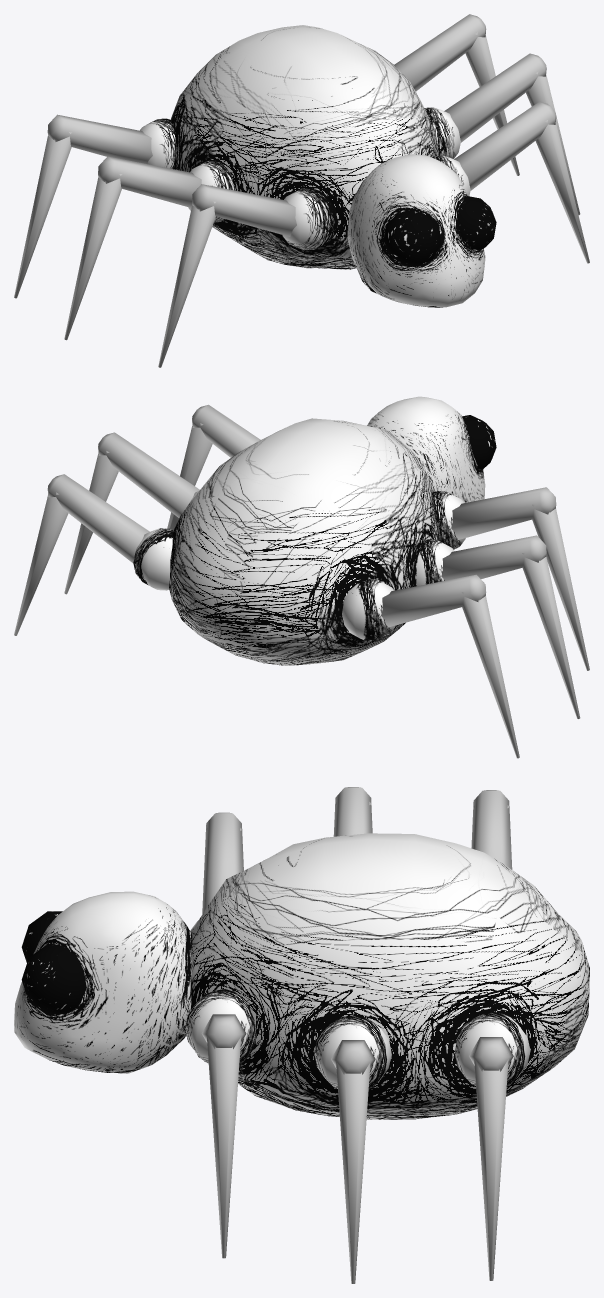
Rendered from insect.dae.
3 renders of one model, top to bottom at view 1: azimuth 30°, elevation 25°; view 2: azimuth 150°, elevation 25°; view 3: azimuth 270°, elevation 25°, orthographic. The views are drawn at different scales.
Visible parts, largest first — view 1: Body, Head, uprleg-2-l, uprleg-1-l, uprleg-1-r, uprleg-3-r, uprleg-2-r, uprleg-3-l, lwrleg-2-r, Cone.002, lwrleg-3-r, Icosphere (+8 smaller); view 2: Body, Head, uprleg-3-l, uprleg-2-l, uprleg-1-r, uprleg-3-r, uprleg-2-r, lwrleg-3-r, lwrleg-2-r, Cone.002, shoulder-3-l, lwrleg-3-l (+7 smaller); view 3: Body, Head, lwrleg-3-l, lwrleg-2-l, Cone.004, Icosphere.001, shoulder-2-l, shoulder-3-r, uprleg-1-r, shoulder-1-l, uprleg-3-r, uprleg-2-r (+4 smaller).
Part boxes in pixels (<box>): Body: <box>171,25,438,269</box>; Head: <box>347,154,485,307</box>; uprleg-2-l: <box>444,53,546,142</box>; uprleg-1-l: <box>454,101,556,190</box>; uprleg-1-r: <box>192,184,296,236</box>; uprleg-3-r: <box>47,114,152,163</box>; uprleg-2-r: <box>98,156,201,207</box>; uprleg-3-l: <box>394,14,486,91</box>; lwrleg-2-r: <box>64,174,122,340</box>; Cone.002: <box>158,201,215,367</box>; lwrleg-3-r: <box>14,132,71,298</box>; Icosphere: <box>383,210,441,266</box>; Body: <box>169,418,438,665</box>; Head: <box>367,396,485,502</box>; uprleg-3-l: <box>47,474,149,563</box>; uprleg-2-l: <box>98,432,199,517</box>; uprleg-1-r: <box>451,487,556,539</box>; uprleg-3-r: <box>381,574,486,627</box>; uprleg-2-r: <box>441,535,546,580</box>; lwrleg-3-r: <box>462,592,519,758</box>; lwrleg-2-r: <box>522,553,580,718</box>; Cone.002: <box>532,504,589,670</box>; shoulder-3-l: <box>342,578,395,640</box>; lwrleg-3-l: <box>14,492,68,635</box>; Body: <box>190,833,589,1119</box>; Head: <box>14,891,192,1073</box>; lwrleg-3-l: <box>473,1053,508,1280</box>; lwrleg-2-l: <box>335,1056,370,1283</box>; Cone.004: <box>206,1030,241,1258</box>; Icosphere.001: <box>21,944,85,1015</box>; shoulder-2-l: <box>314,1016,391,1088</box>; shoulder-3-r: <box>454,1012,530,1085</box>; uprleg-1-r: <box>202,812,243,913</box>; shoulder-1-l: <box>185,989,256,1063</box>; uprleg-3-r: <box>471,790,512,869</box>; uprleg-2-r: <box>333,787,372,836</box>.
Bounding box in the file's own units: 3.79 × 2.94 × 1.58.
